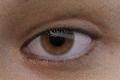eye: (41, 28, 74, 55)
